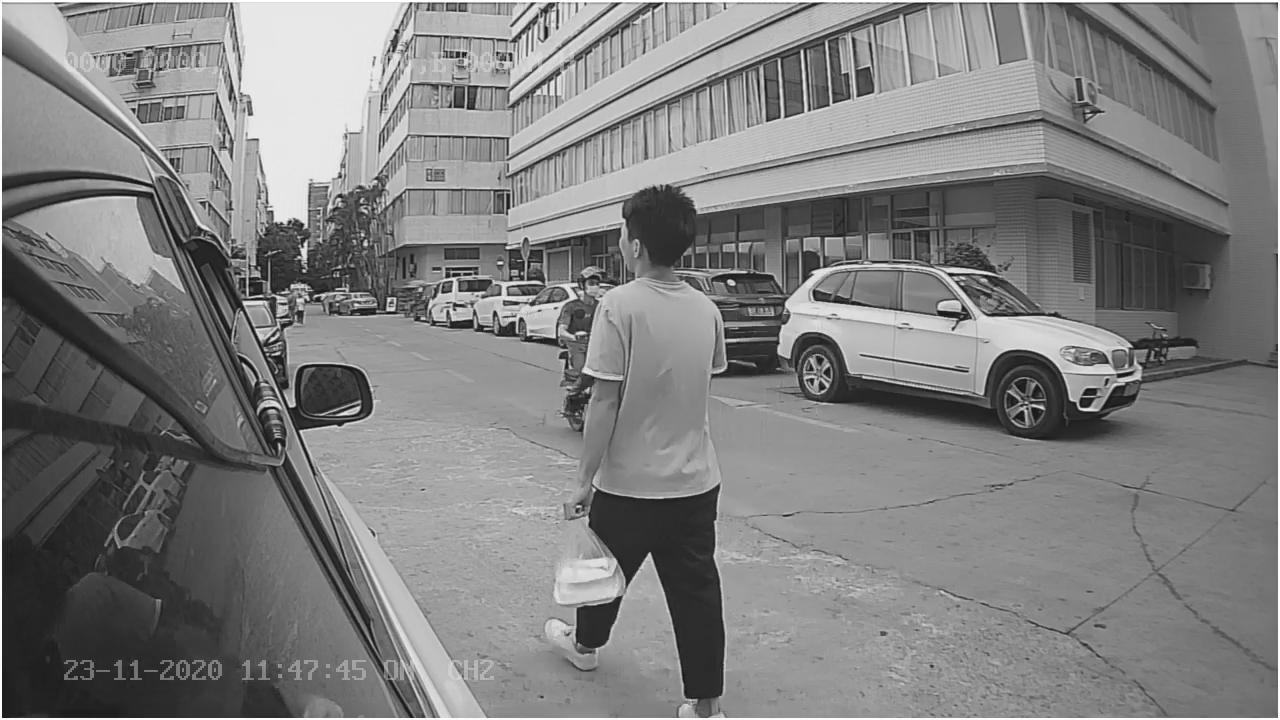person: (547, 178, 742, 717)
